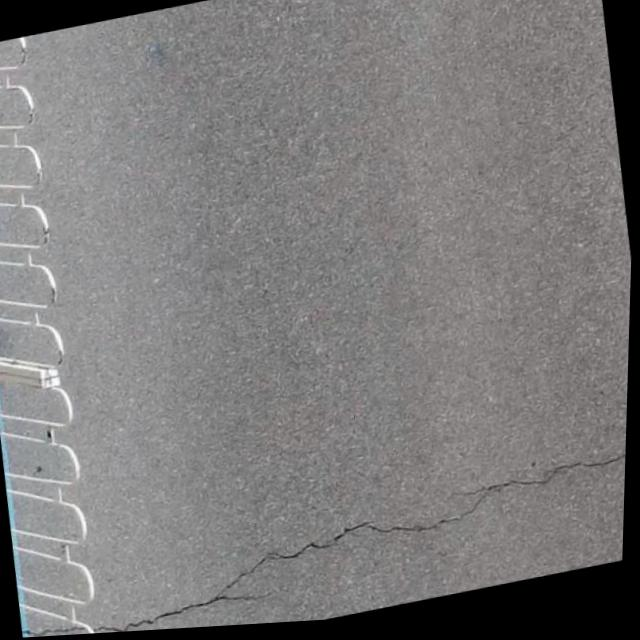Crack: (100, 444, 629, 635)
